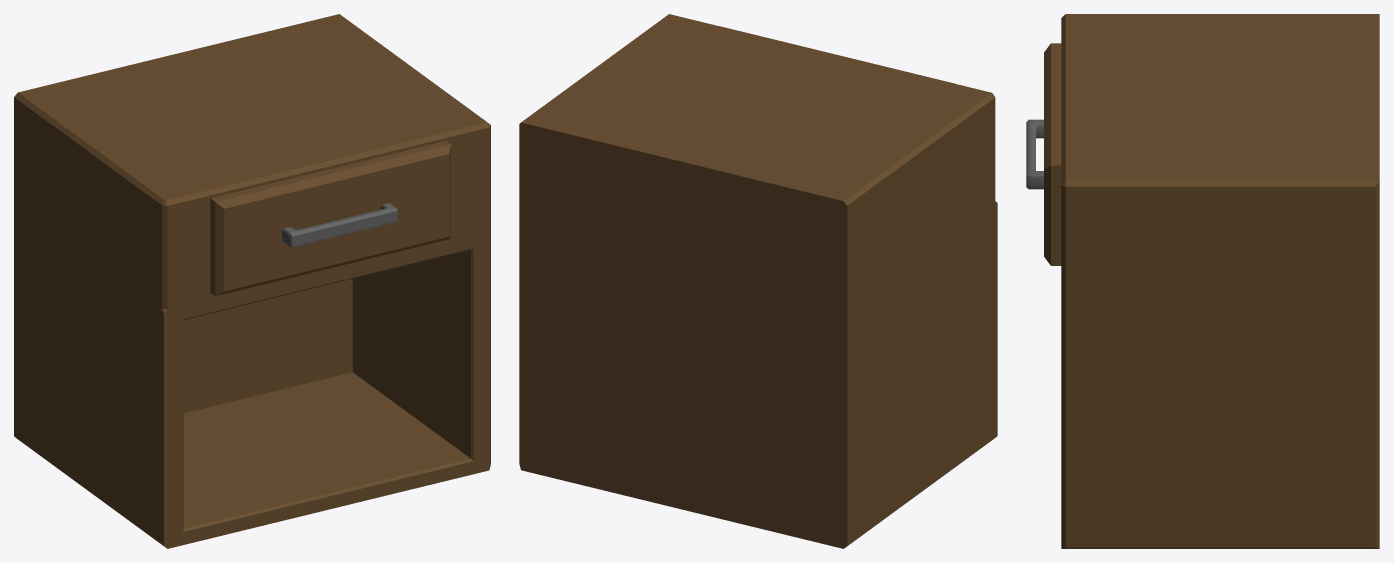
File: NigthStandGeo.fbx
3 renders of one model, left to right at view 1: azimuth 30°, elevation 25°; view 2: azimuth 150°, elevation 25°; view 3: azimuth 270°, elevation 25°, orthographic. The views are drawn at different scales.
Visible parts, largest first — view 1: NigthStandGeo; view 2: NigthStandGeo; view 3: NigthStandGeo.
Part boxes in pixels (x1,y1,x2,y2): NigthStandGeo: (14, 14, 490, 548); NigthStandGeo: (519, 14, 997, 548); NigthStandGeo: (1026, 14, 1379, 548).
Bounding box in the file's own units: 106 × 107 × 92.91.
